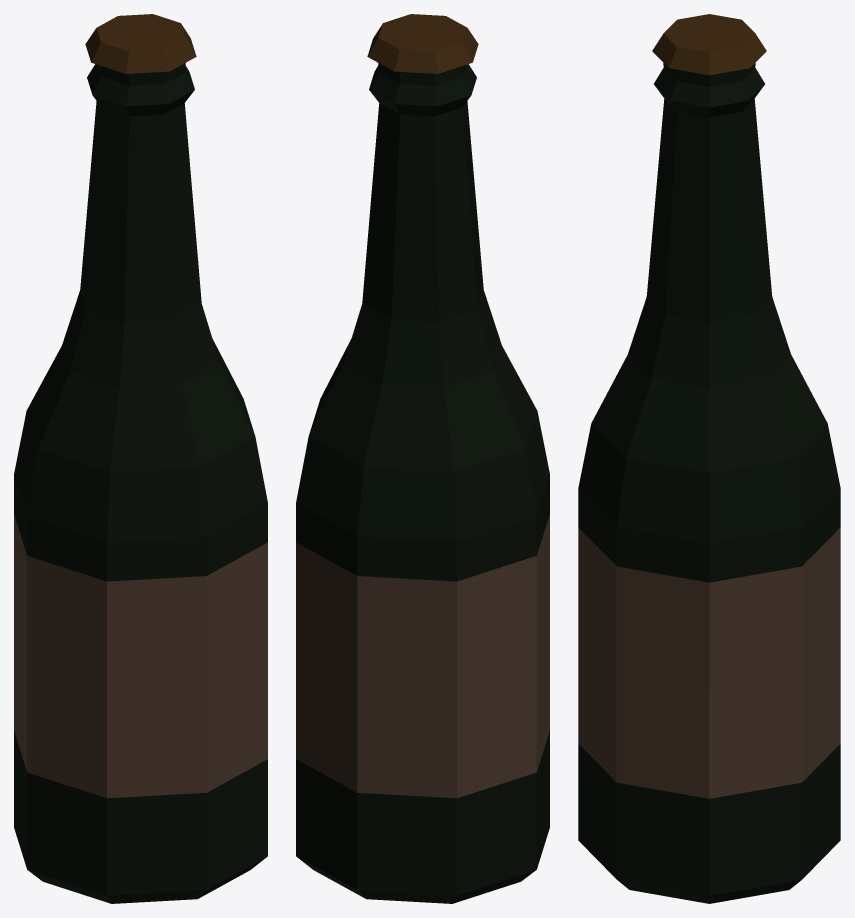
The model's file is bottle.glb.
3 renders of one model, left to right at view 1: azimuth 30°, elevation 25°; view 2: azimuth 150°, elevation 25°; view 3: azimuth 270°, elevation 25°, orthographic.
Visible parts, largest first — view 1: Bottle1; view 2: Bottle1; view 3: Bottle1.
Part boxes in pixels (x1,y1,x2,y2): Bottle1: (14, 14, 267, 903); Bottle1: (296, 14, 549, 903); Bottle1: (578, 14, 840, 903).
Bounding box in the file's own units: 45.17 × 156 × 45.17.
